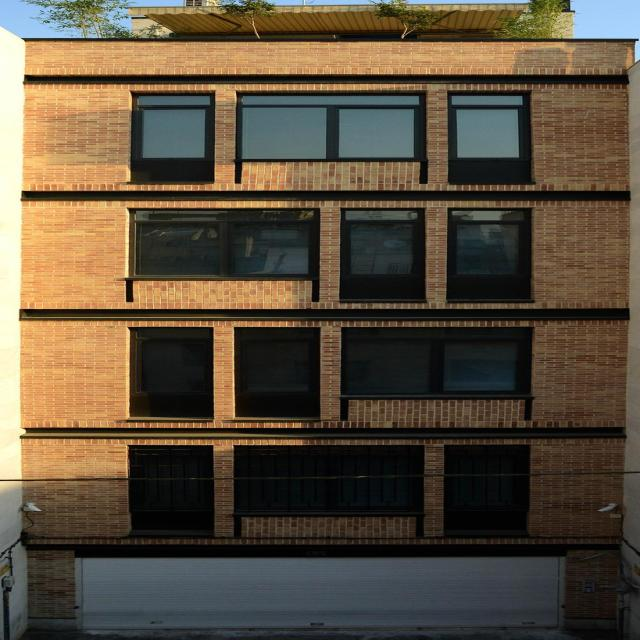door: (76, 557, 568, 631)
wall: (24, 3, 639, 636)
windows: (132, 207, 315, 278), (245, 91, 428, 161), (342, 328, 526, 394), (232, 448, 419, 511), (448, 207, 538, 298), (125, 445, 216, 531), (448, 92, 532, 185), (343, 208, 427, 300), (235, 327, 321, 416), (130, 327, 212, 416), (132, 93, 214, 181), (446, 447, 523, 529)
